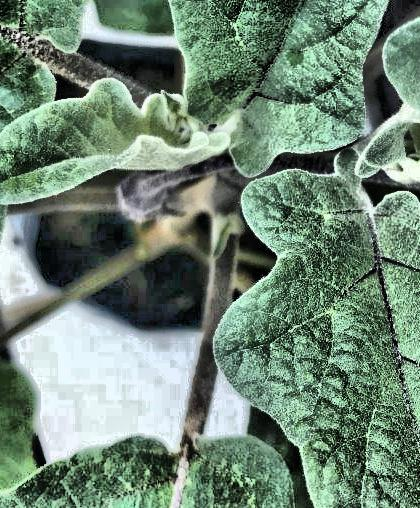HEALTHY: (2, 0, 420, 309)
